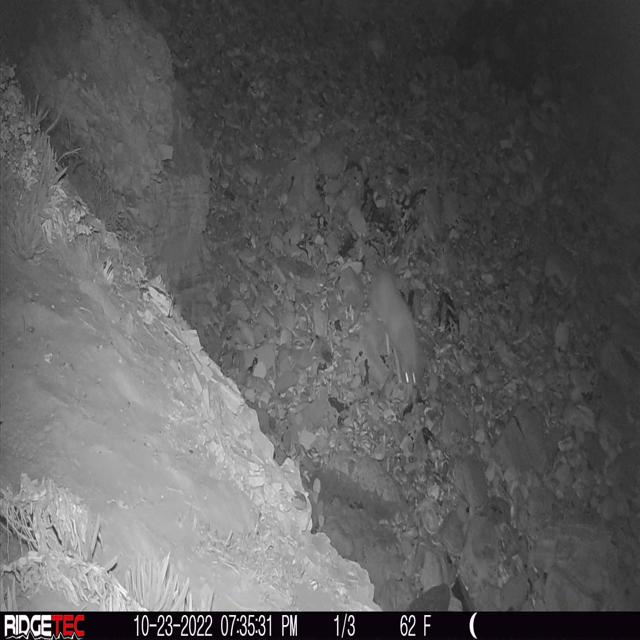coyote: (366, 267, 423, 388)
